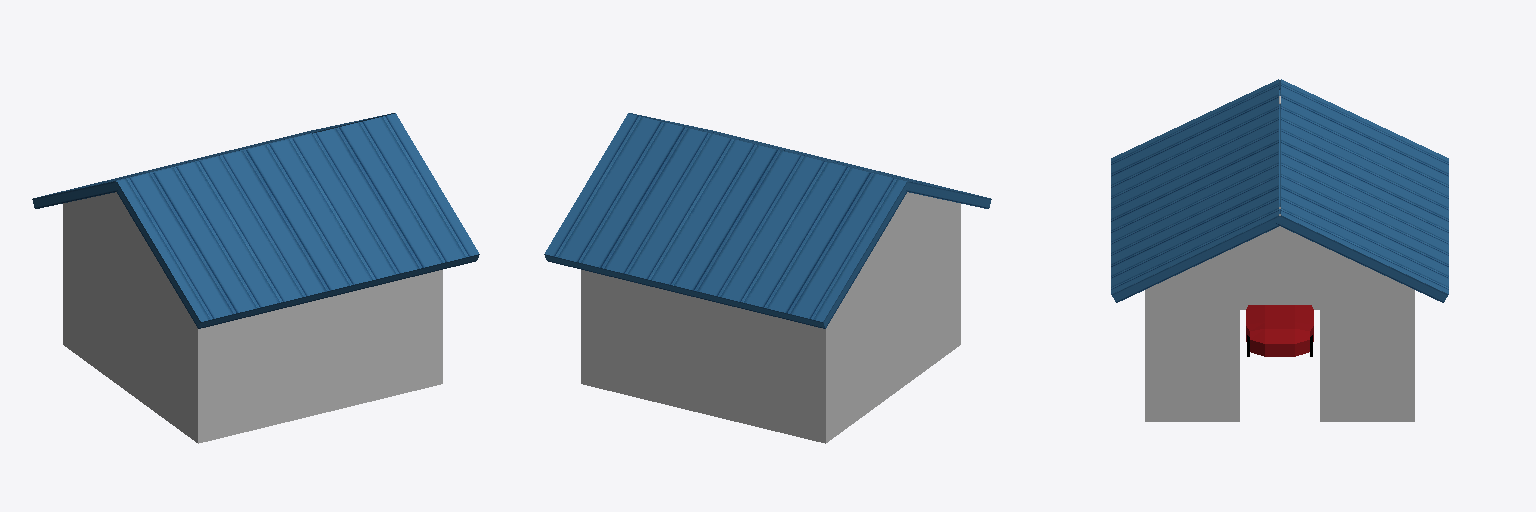
3 views of the same model, side by side, from view 1: azimuth 30°, elevation 25°; view 2: azimuth 150°, elevation 25°; view 3: azimuth 270°, elevation 25° (orthographic).
Visible parts, largest first — view 1: Cube.001, Cube; view 2: Cube.001, Cube; view 3: Cube.001, Cube, Cube.002.
Part boxes in pixels (x1,y1,x2,y2): Cube.001: (32, 113, 479, 328); Cube: (63, 192, 442, 443); Cube.001: (544, 113, 991, 328); Cube: (581, 192, 960, 443); Cube.001: (1111, 79, 1448, 302); Cube: (1145, 96, 1414, 421); Cube.002: (1246, 305, 1313, 356).
Size of the model in its own units: 10.72 by 8 by 11.24.
Materials: 3 (2 with a texture image).